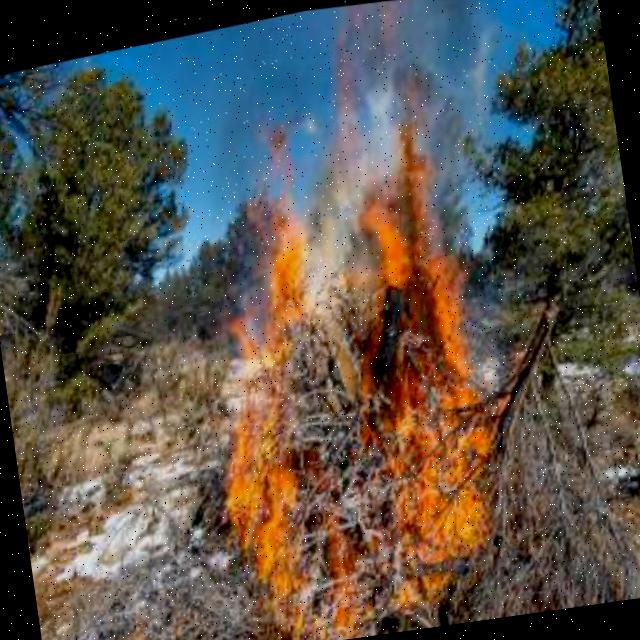fire: (331, 199, 545, 577), (192, 387, 344, 640), (212, 208, 337, 376), (302, 553, 449, 640), (245, 105, 316, 222)
